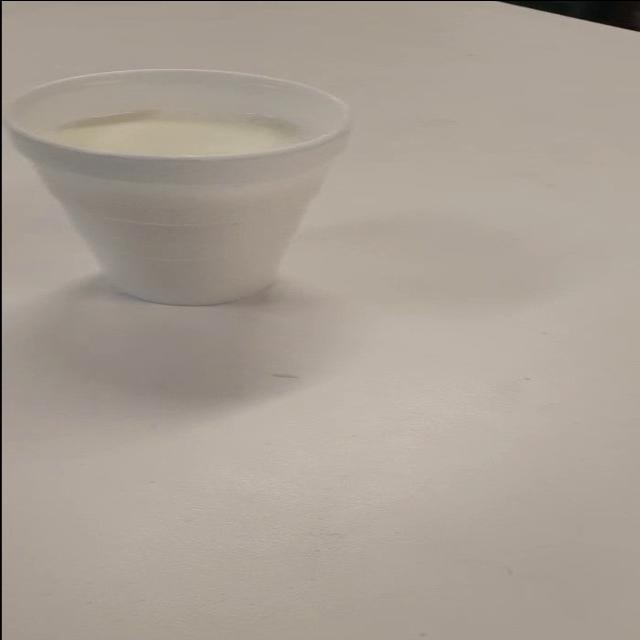Milk: (6, 62, 442, 316)
